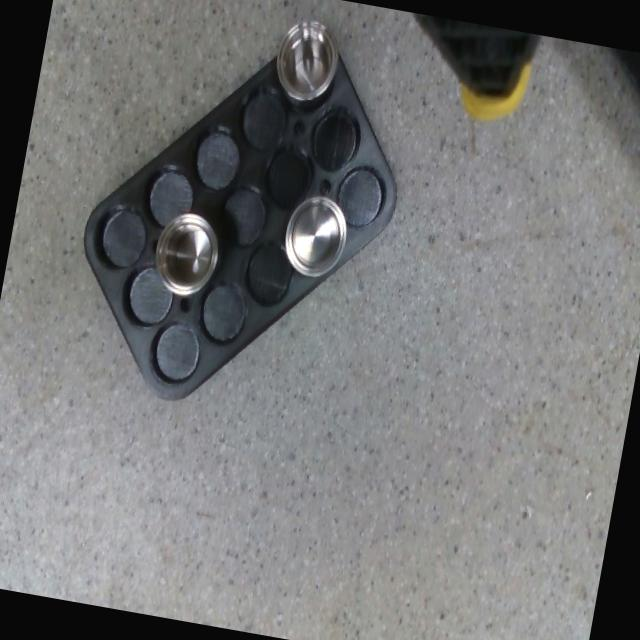sensor: (148, 207, 224, 298), (278, 189, 350, 280), (270, 15, 342, 104)
